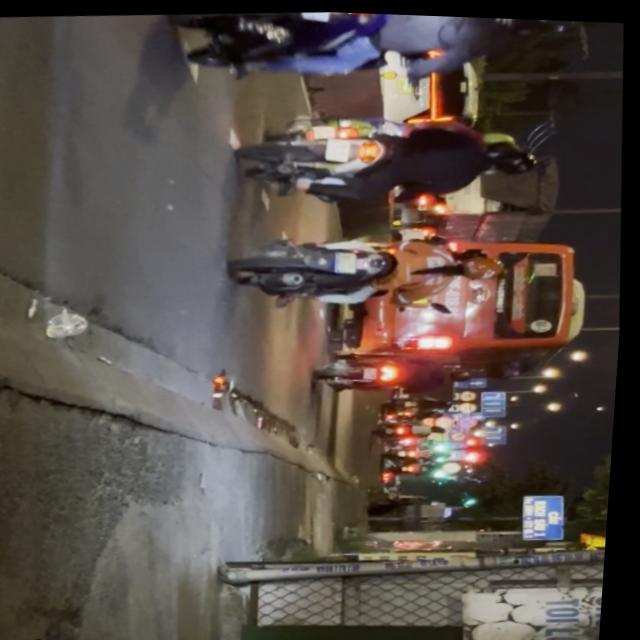helmet: (489, 141, 542, 172), (502, 15, 580, 36), (459, 250, 506, 276)
licenseplate: (167, 5, 599, 92), (236, 100, 549, 211), (232, 219, 511, 312)
nohelmet: (327, 134, 353, 159), (338, 247, 361, 271), (303, 9, 332, 18)
